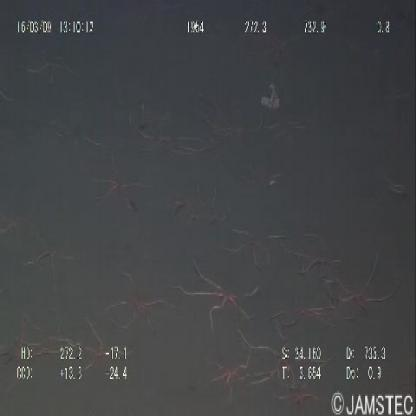Bio: (206, 333, 324, 414), (171, 252, 262, 332), (328, 250, 401, 331), (101, 265, 165, 334), (92, 154, 149, 213)
